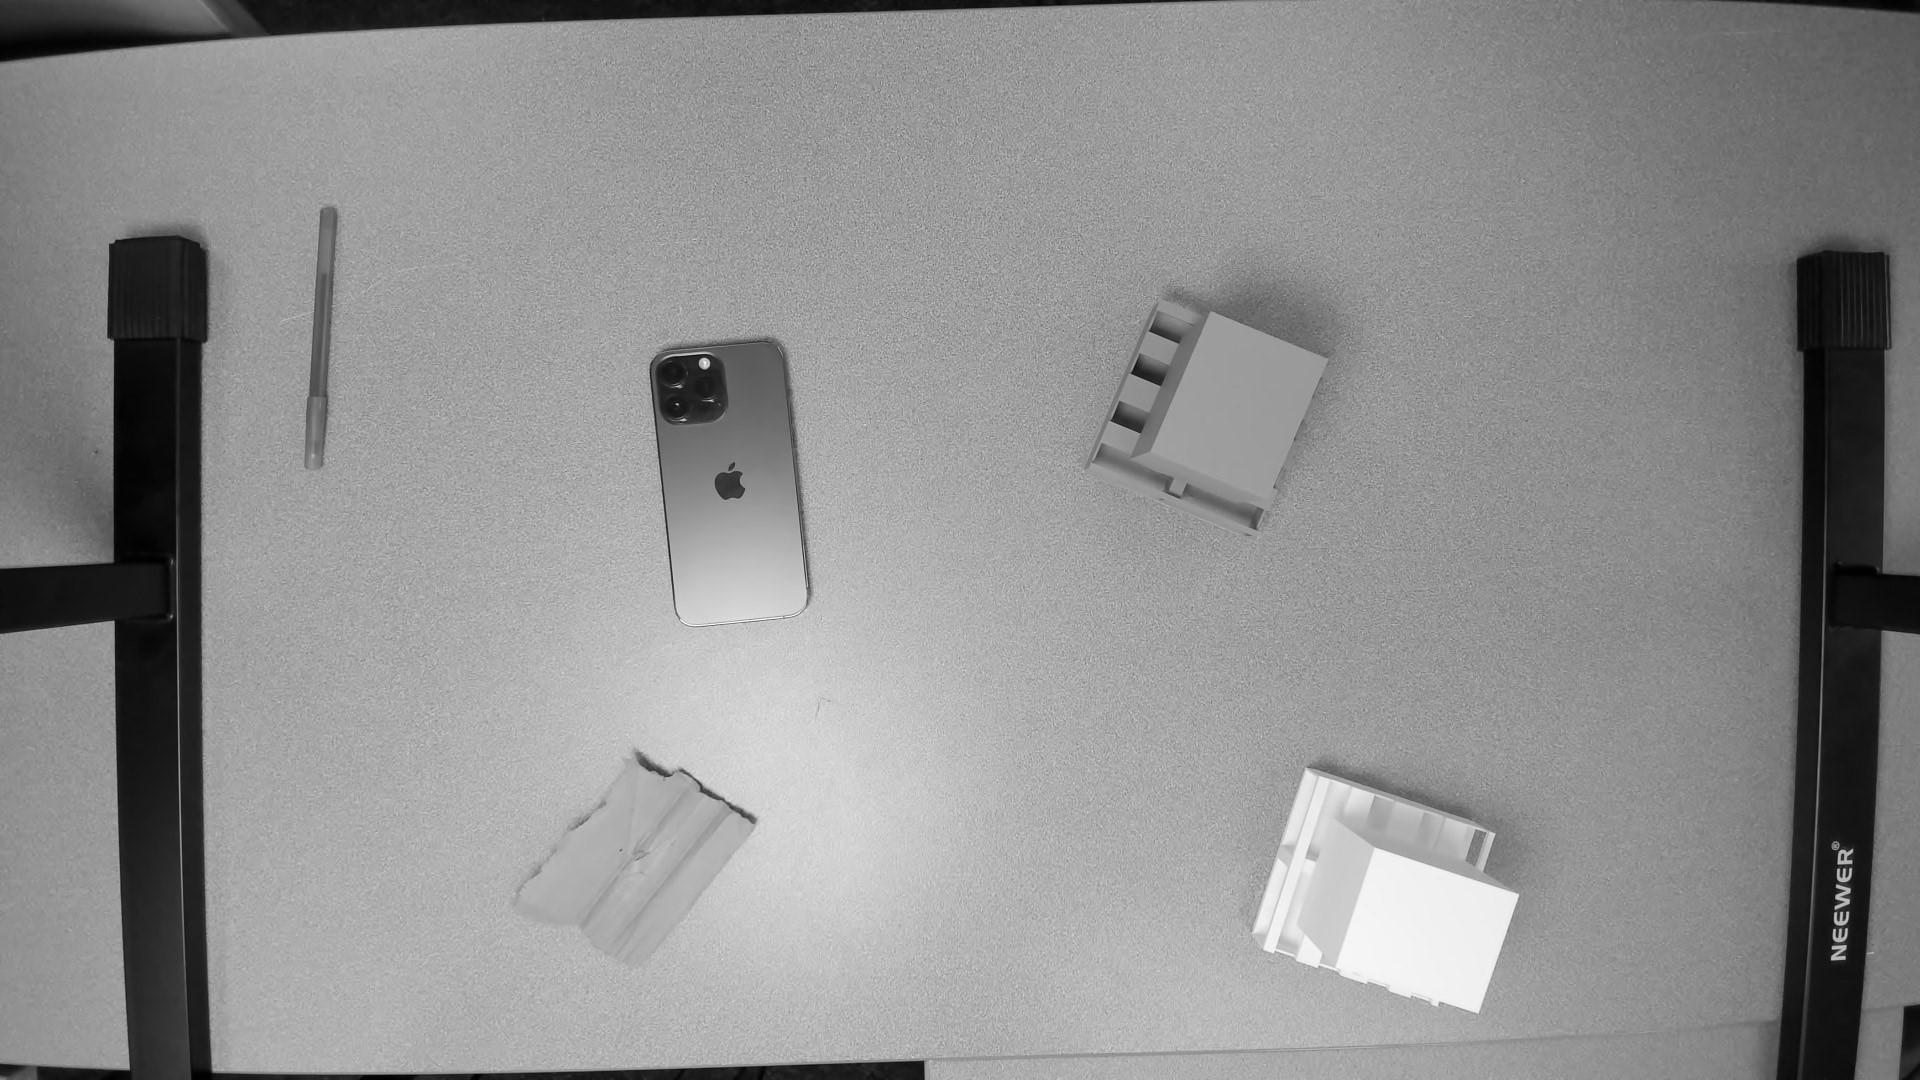grey pallet: (1077, 284, 1335, 541)
white pallet: (1249, 754, 1520, 1029)
